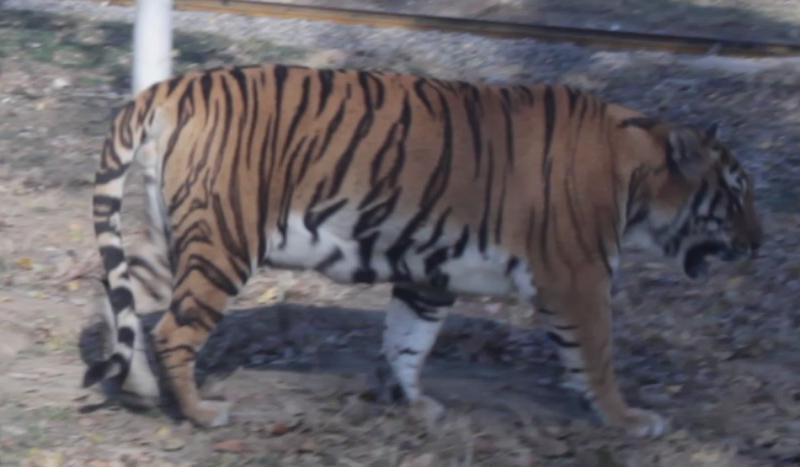tiger: (85, 65, 761, 435)
